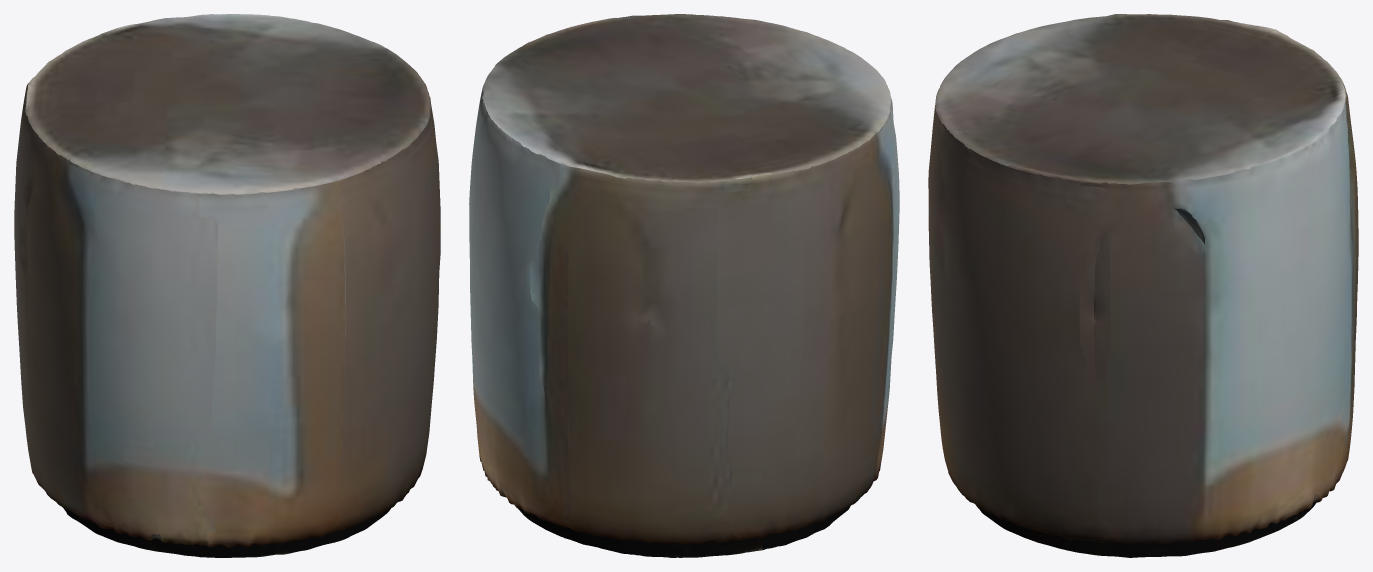
The picture shows the model from 3 angles, left to right: view 1: azimuth 30°, elevation 25°; view 2: azimuth 150°, elevation 25°; view 3: azimuth 270°, elevation 25°; orthographic projection.
Visible parts, largest first — view 1: world; view 2: world; view 3: world.
Boxes of the visible parts, x1,y1,x2,y2 form: world: [14, 14, 440, 557]; world: [469, 14, 899, 557]; world: [928, 14, 1358, 557].
Size of the model in its own units: 0.1714 by 0.1726 by 0.1715.
Materials: 1 (1 with a texture image).
